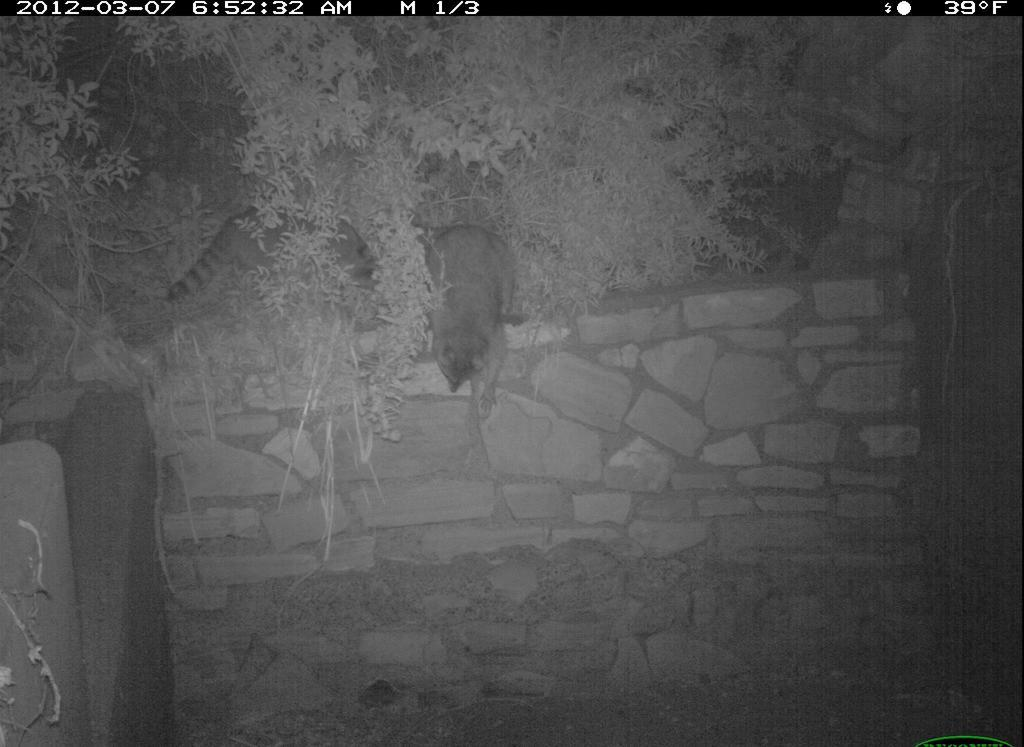raccoon: (413, 213, 538, 437), (166, 199, 379, 313)
